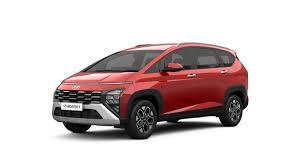hyundai: (68, 82, 83, 92)
